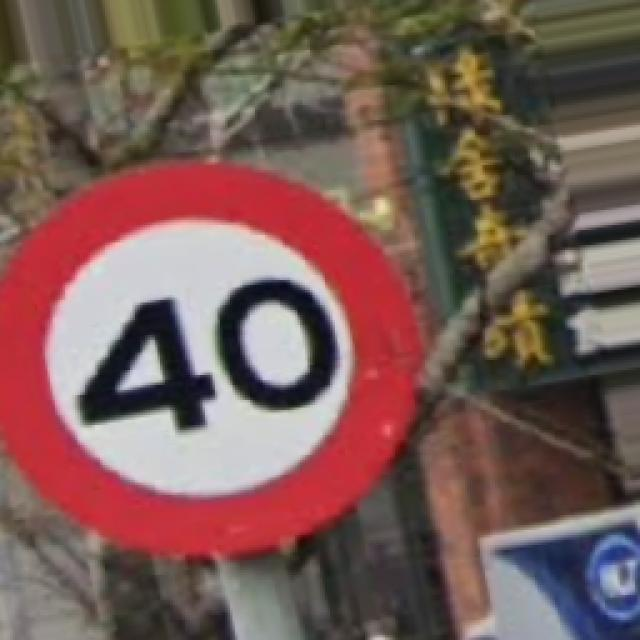Speed Limit -40-: (5, 162, 420, 558)
